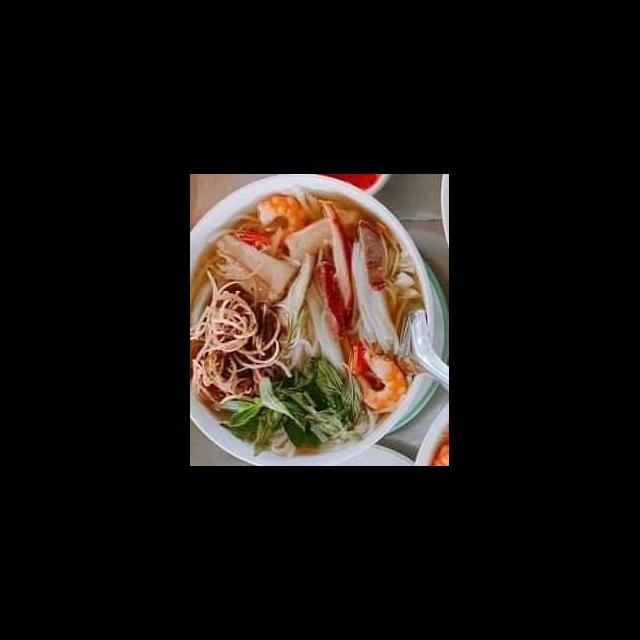bun: (348, 236, 410, 362), (304, 273, 349, 380)
ca: (210, 231, 300, 307)
thit heo quay: (320, 198, 360, 318), (306, 257, 351, 347)
tom: (346, 342, 408, 416), (232, 191, 308, 251)
